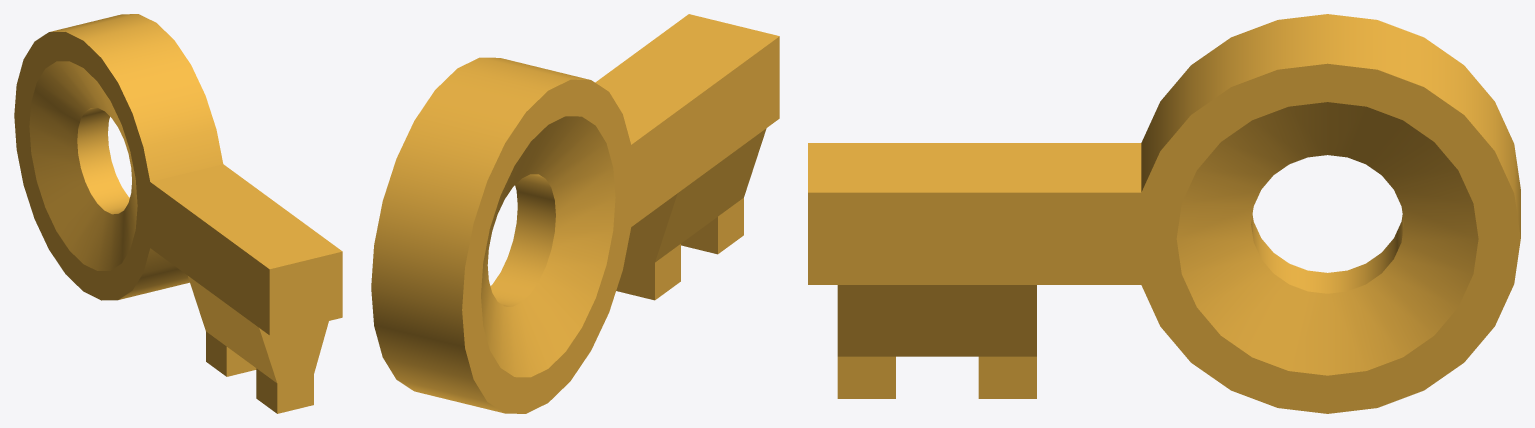
Rendered from key.fbx.
3 views of the same model, side by side, from view 1: azimuth 30°, elevation 25°; view 2: azimuth 150°, elevation 25°; view 3: azimuth 270°, elevation 25° (orthographic). The views are drawn at different scales.
Visible parts, largest first — view 1: key; view 2: key; view 3: key.
Part boxes in pixels (x1,y1,x2,y2): key: (14, 14, 342, 413); key: (371, 14, 779, 413); key: (808, 14, 1520, 413).
Size of the model in its own units: 0.6786 by 2.23 by 4.11.
